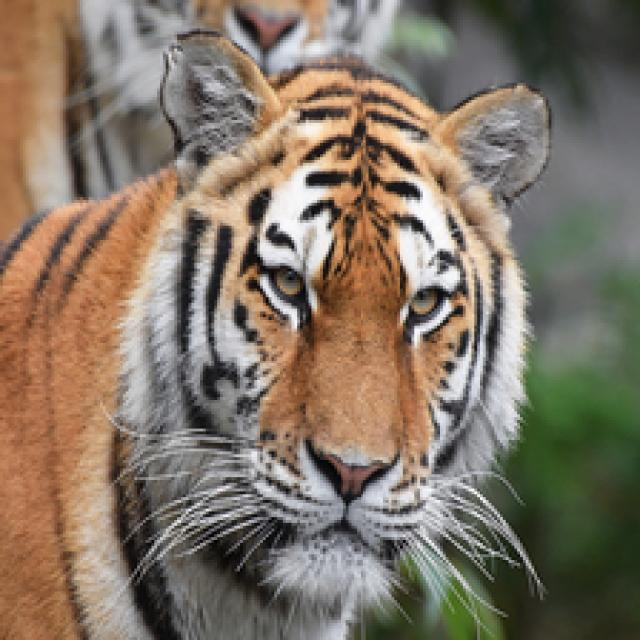tiger: (0, 23, 527, 640)
